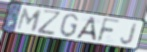A: (74, 16, 97, 42)
F: (95, 17, 122, 44)
G: (58, 13, 80, 39)
J: (119, 22, 139, 46)
M: (15, 7, 43, 33)
Z: (36, 8, 64, 36)
